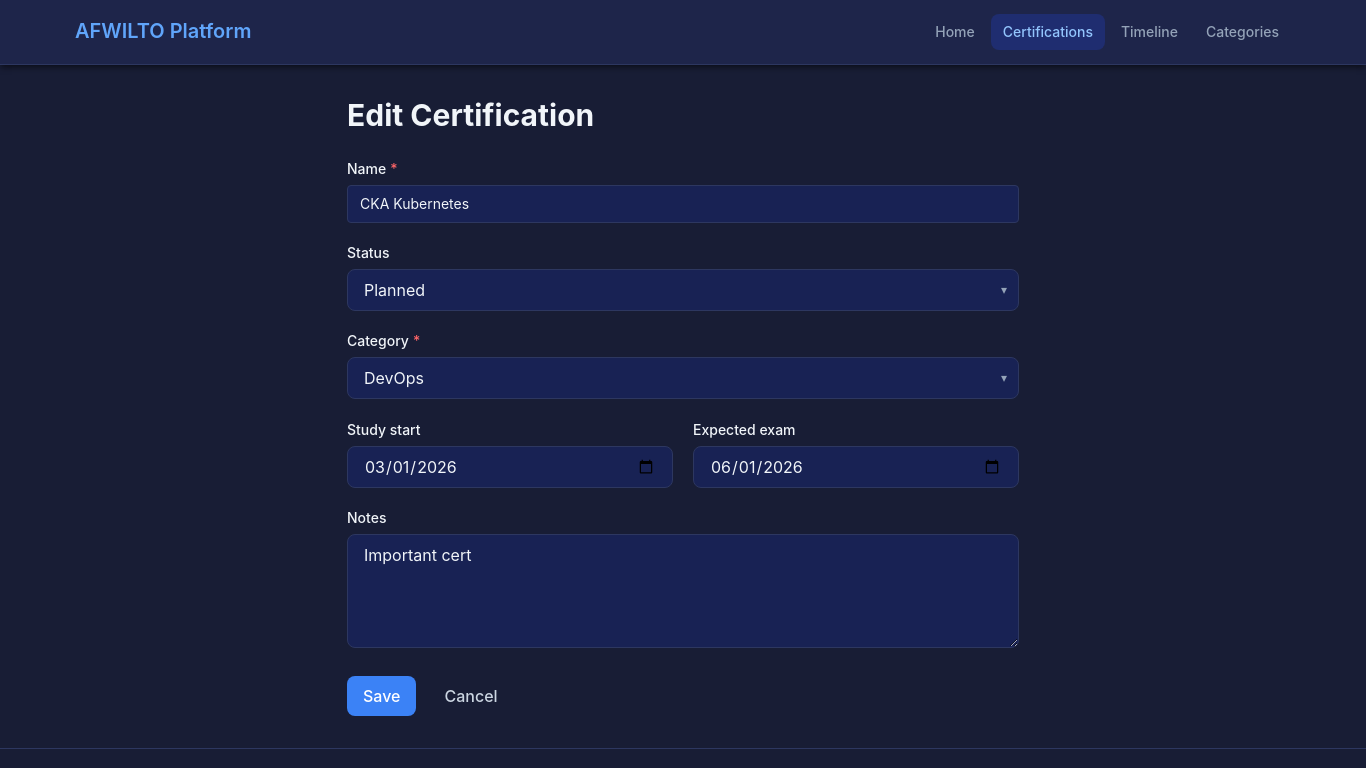
Test case: CertificationEditPage — merge-patch (Spec 14) › AC-1: changing only the exam date on a planned cert saves (no BR-EV1 violation)
expect the field labelled "Name*" is shown: met, box [347,184,1019,222]
Type "2027-03-01" into the date field labelled "Expected exam" at {"x": 856, "y": 466}, box [693,446,1019,488]
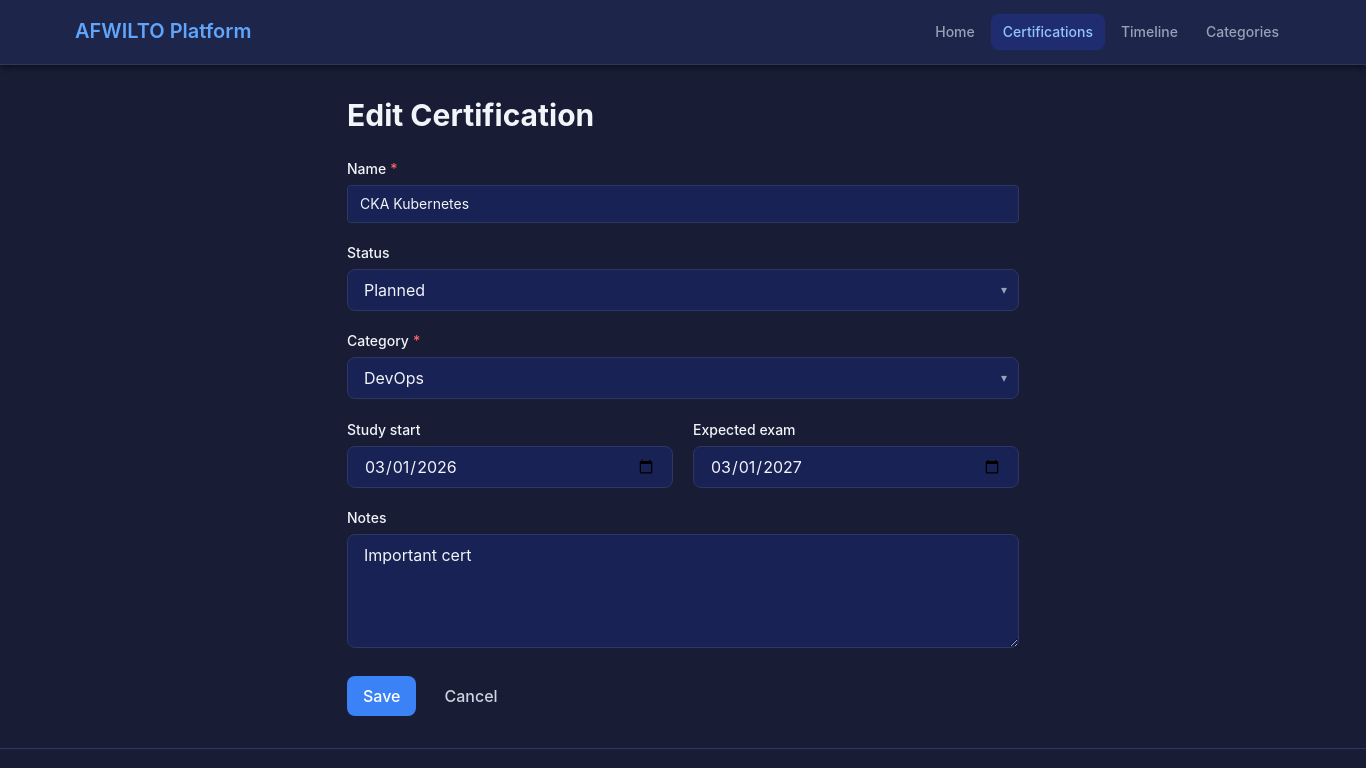
Click the button "Save" at {"x": 382, "y": 696}, box [347,676,416,716]
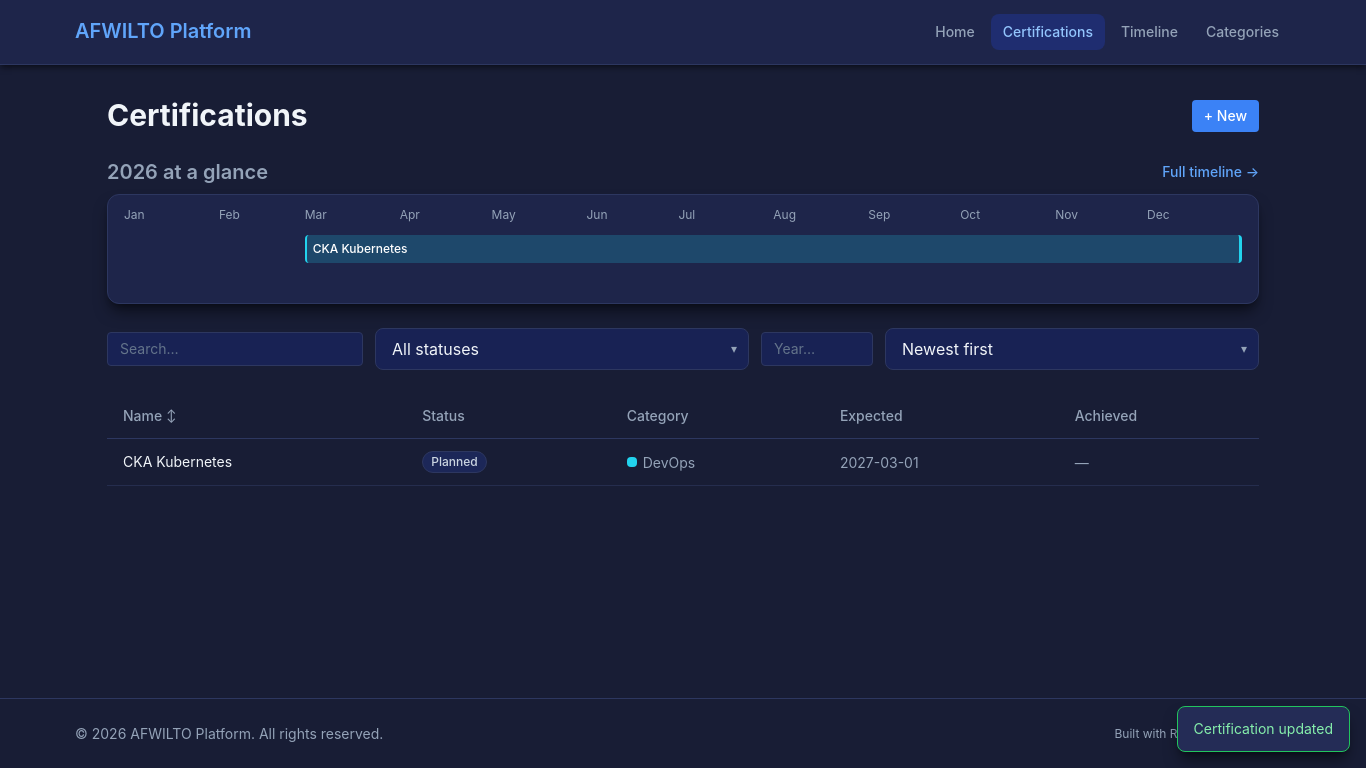
expect the text "Certification updated" is shown: met, box [1176,706,1350,752]
